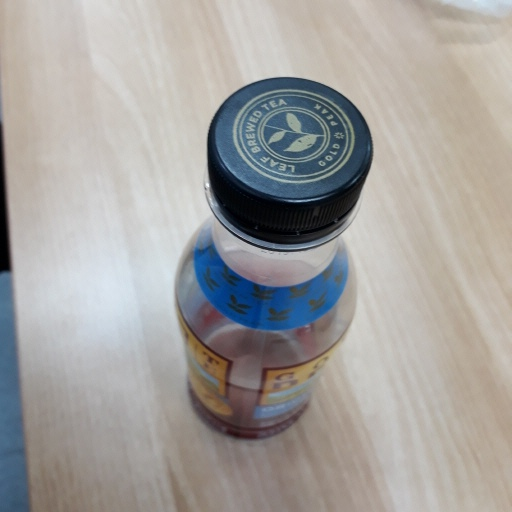Plastic_0: (168, 72, 373, 446)
